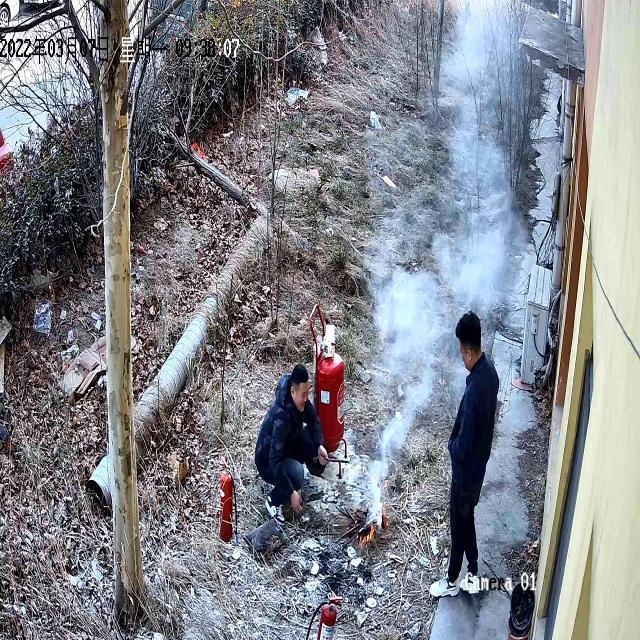Fire: (356, 502, 388, 552)
Smoke: (370, 6, 588, 422)
